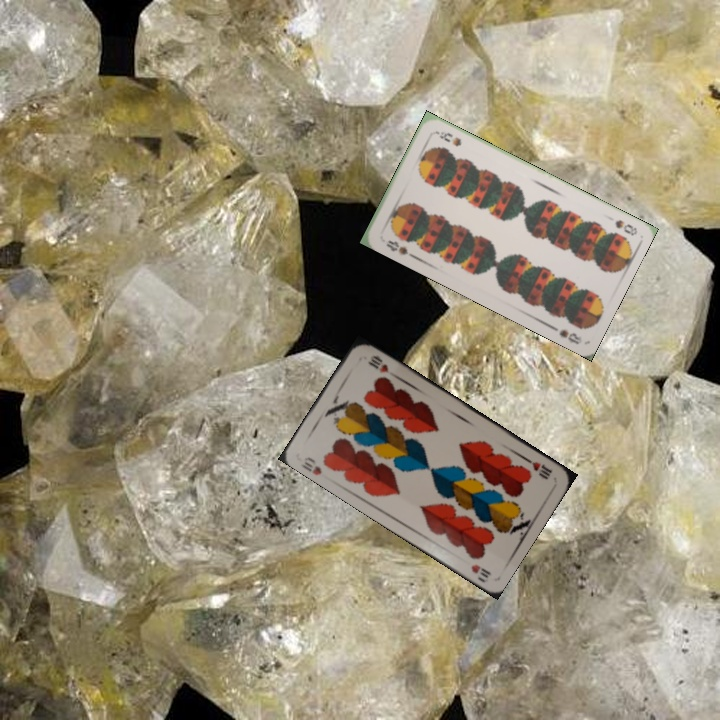H10: (520, 453, 555, 482), (297, 453, 324, 478)
S8: (382, 236, 415, 260), (611, 216, 639, 238)
